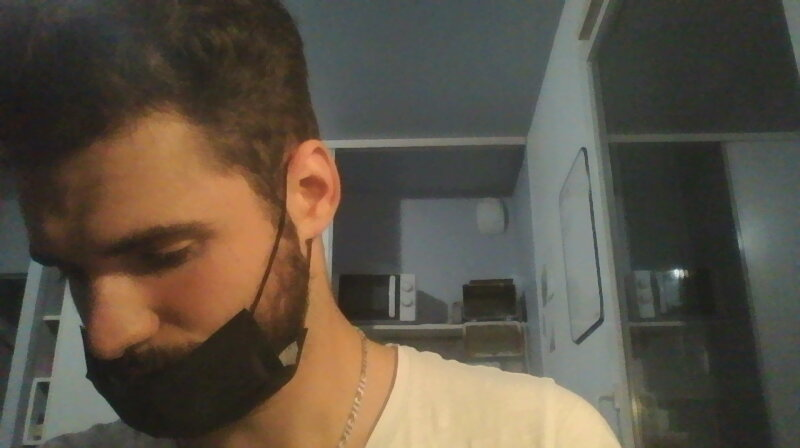with_incorrect_mask: (9, 151, 308, 437)
